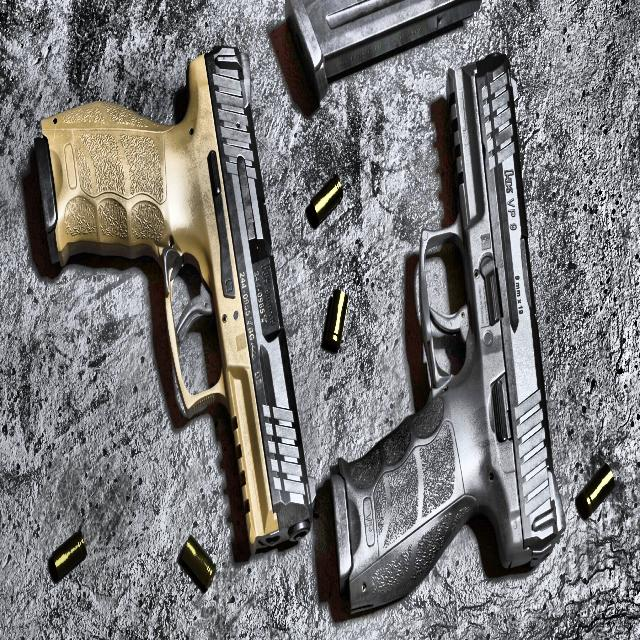HKVP9: (327, 50, 566, 620)
